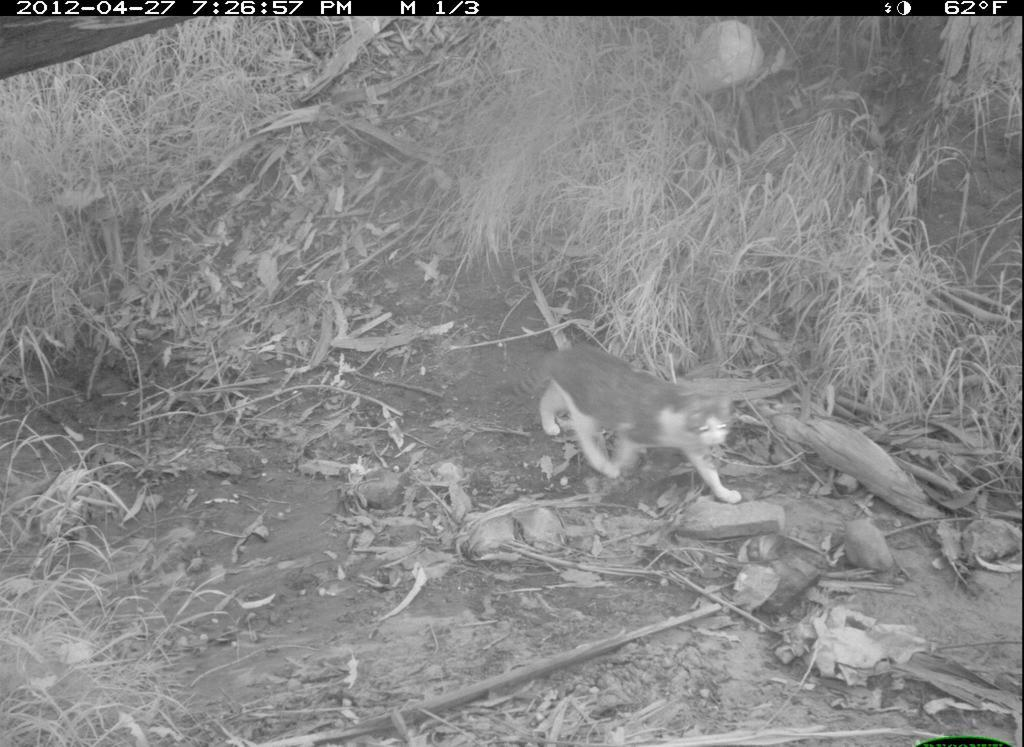cat: (515, 344, 752, 511)
